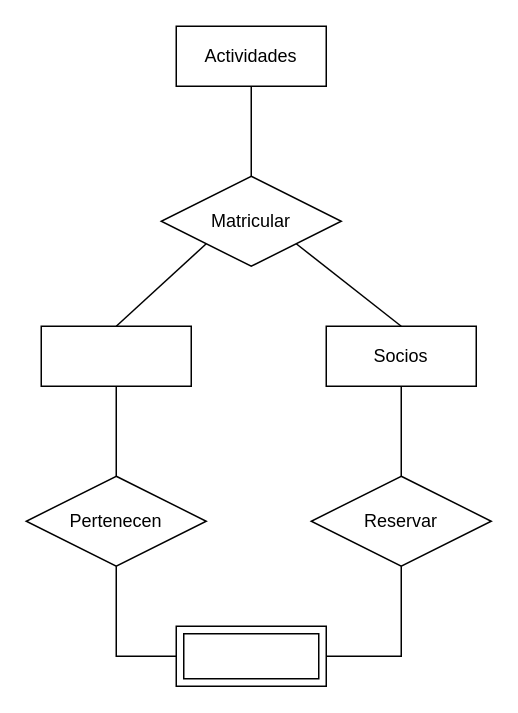
Image size: 518x713. Some labels were removed from this diagram. Here are the shapes that lost their labels. From the top down, the centre of each, then its label:
At point (115, 355): "Centro".
At point (250, 655): "Sala".
